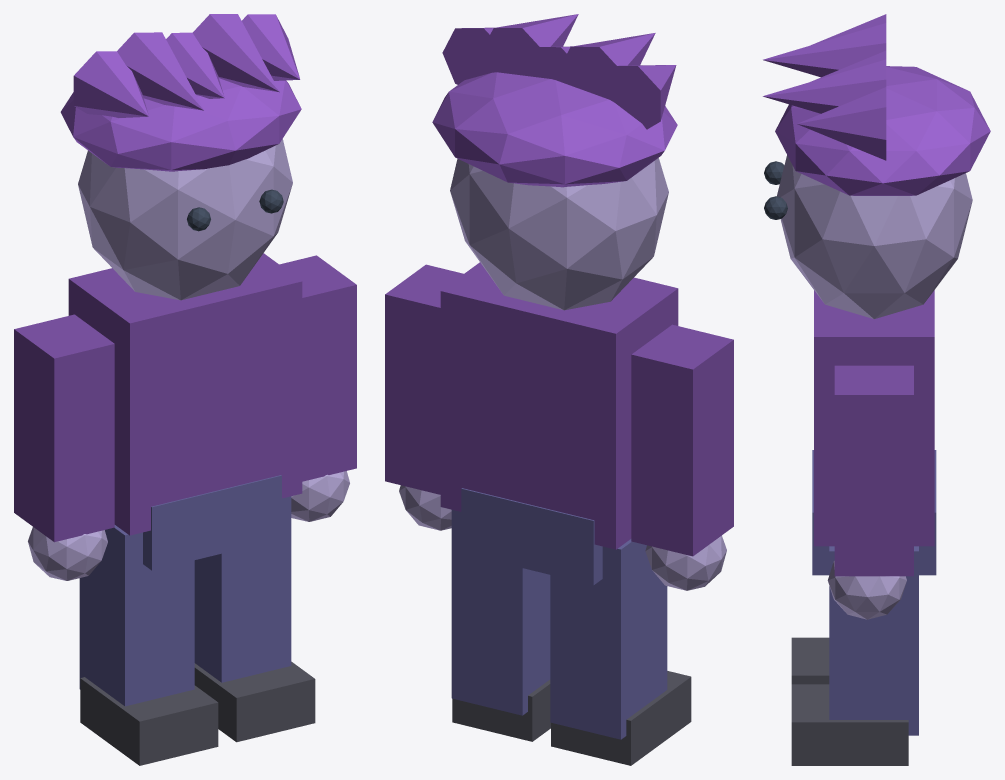
Rendered from hit.glb.
3 renders of one model, left to right at view 1: azimuth 30°, elevation 25°; view 2: azimuth 150°, elevation 25°; view 3: azimuth 270°, elevation 25°, orthographic. The views are drawn at different scales.
Parts seen in each view (by area): view 1: part_000, part_010, part_002, part_004, part_013, part_008, part_006, part_001, part_005, part_009, part_014, part_015 (+5 smaller); view 2: part_000, part_010, part_002, part_013, part_004, part_008, part_006, part_001, part_005, part_015, part_014, part_017 (+5 smaller); view 3: part_010, part_006, part_013, part_000, part_008, part_009, part_018, part_015, part_017, part_007, part_005, part_001 (+1 smaller).
Part boxes in pixels (x1,y1,x2,y2): part_000: (68,253,302,535); part_010: (78,139,292,300); part_002: (14,314,114,542); part_004: (79,525,194,706); part_013: (60,78,301,171); part_008: (194,496,291,682); part_006: (279,255,356,481); part_001: (143,475,281,570); part_005: (80,677,218,765); part_009: (194,661,315,742); part_014: (73,51,148,117); part_015: (117,32,203,110); part_000: (440,262,678,549); part_010: (450,158,668,310); part_002: (631,324,733,556); part_013: (432,72,677,187); part_004: (550,539,667,739); part_008: (451,510,550,715); part_006: (385,264,463,494); part_001: (461,488,602,585); part_005: (551,671,691,765); part_015: (558,33,655,103); part_014: (596,65,676,129); part_017: (481,14,578,77); part_010: (777,155,972,319); part_006: (834,365,913,576); part_013: (775,66,990,195); part_000: (814,290,934,546); part_008: (829,546,918,735); part_009: (791,684,908,765); part_018: (797,87,886,160); part_015: (763,23,886,77); part_017: (763,59,886,113); part_007: (827,561,906,619); part_005: (791,637,829,684); part_001: (812,450,936,575).
Size of the model in its own units: 1.03 by 2.17 by 0.6628.
